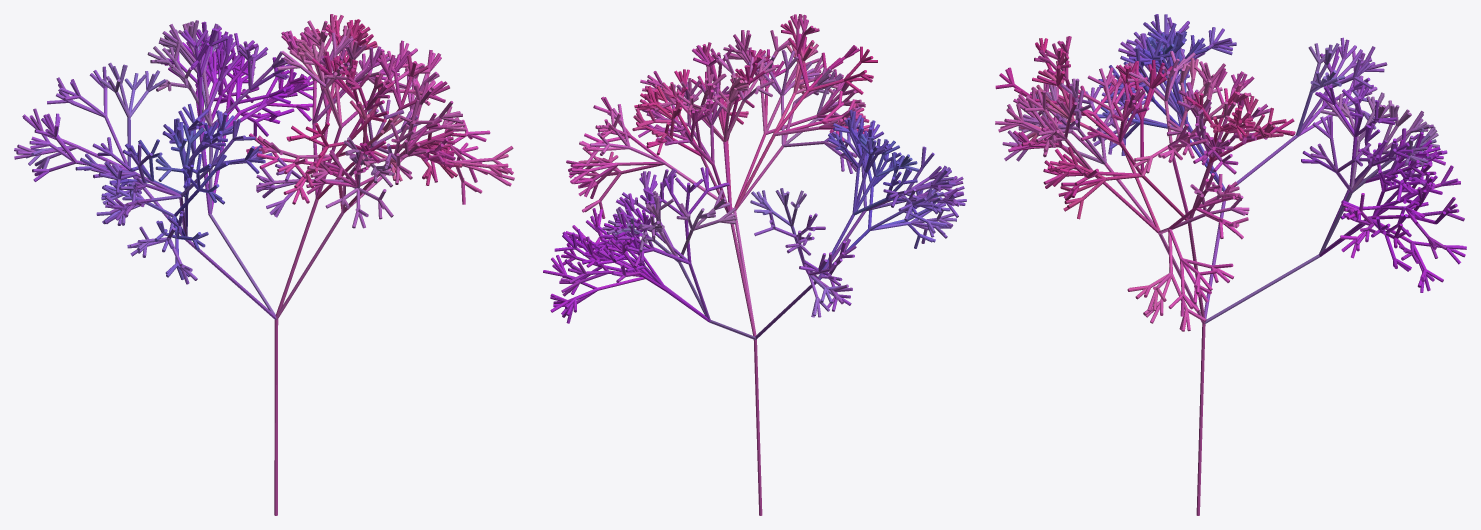
The picture shows the model from 3 angles, left to right: view 1: azimuth 30°, elevation 25°; view 2: azimuth 150°, elevation 25°; view 3: azimuth 270°, elevation 25°; orthographic projection. The views are drawn at different scales.
Visible parts, largest first — view 1: Cylinder.001; view 2: Cylinder.001; view 3: Cylinder.001, Cylinder.1045.
Part boxes in pixels (<box>): Cylinder.001: <box>274,319,278,515</box>; Cylinder.001: <box>753,339,762,515</box>; Cylinder.001: <box>1196,324,1205,515</box>; Cylinder.1045: <box>1204,254,1320,323</box>.
Bounding box in the file's own units: 8.58 × 9.67 × 8.51.
